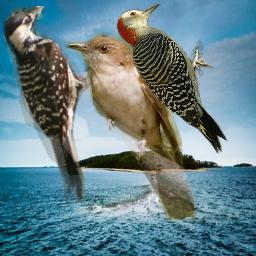Cuckoo: (64, 32, 196, 223)
Woodpecker: (3, 6, 103, 203), (113, 3, 229, 154)
